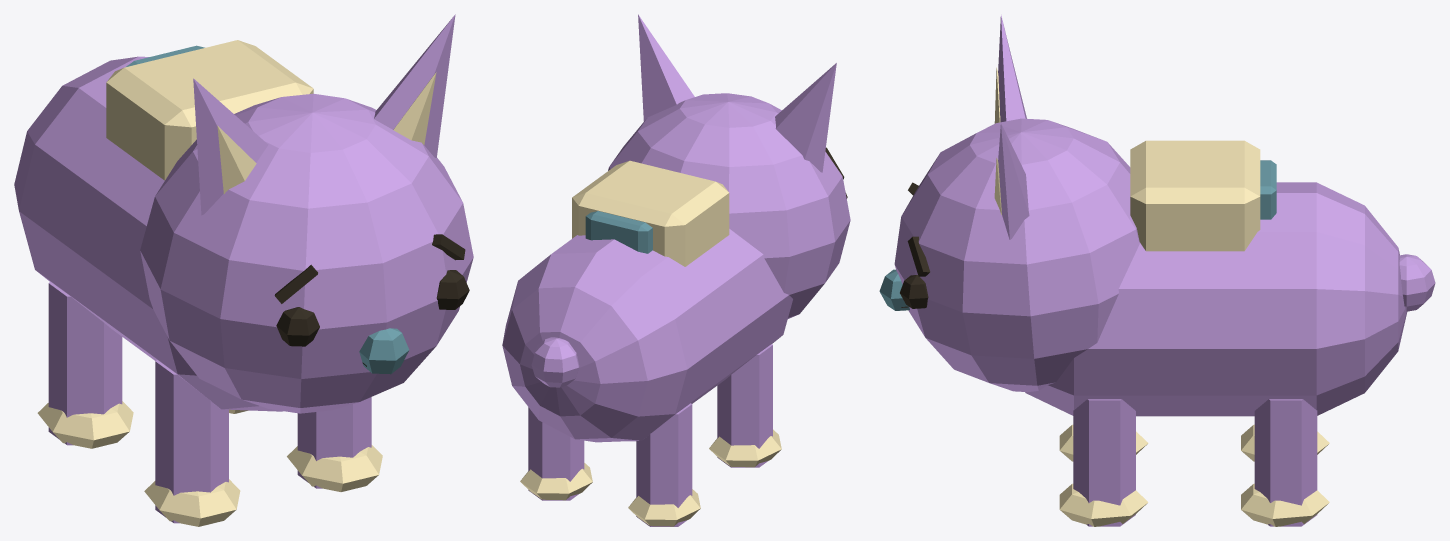
File: bean-sand-2.glb
3 views of the same model, side by side, from view 1: azimuth 30°, elevation 25°; view 2: azimuth 150°, elevation 25°; view 3: azimuth 270°, elevation 25° (orthographic). The views are drawn at different scales.
Parts seen in each view (by area): view 1: bean-sand-2; view 2: bean-sand-2; view 3: bean-sand-2.
Part boxes in pixels (x1,y1,x2,y2): bean-sand-2: [14, 14, 473, 526]; bean-sand-2: [502, 14, 850, 526]; bean-sand-2: [879, 15, 1435, 526].
Bounding box in the file's own units: 0.4367 × 0.7 × 0.8456.
